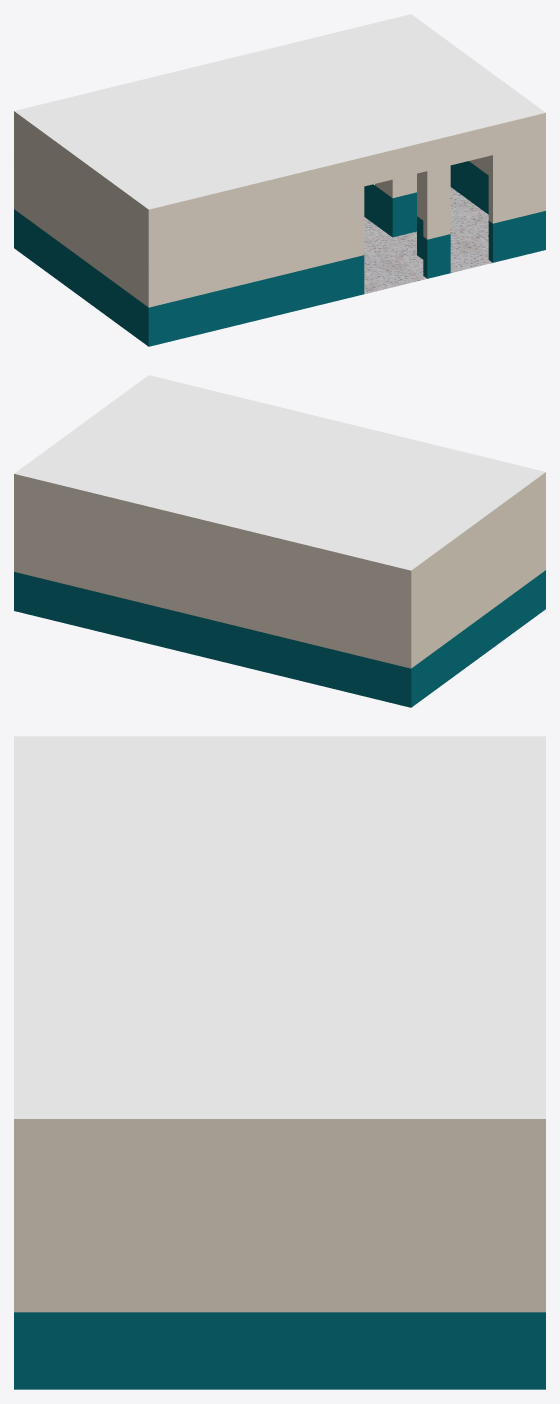
File: ARQ-37.fbx
The picture shows the model from 3 angles, top to bottom: view 1: azimuth 30°, elevation 25°; view 2: azimuth 150°, elevation 25°; view 3: azimuth 270°, elevation 25°; orthographic projection. The views are drawn at different scales.
Visible parts, largest first — view 1: Pared, Techo, Piso; view 2: Pared, Techo; view 3: Techo, Pared.
Boxes of the visible parts, x1,y1,x2,y2 form: Pared: (14, 111, 545, 346); Techo: (14, 14, 545, 209); Piso: (364, 187, 492, 294); Pared: (14, 472, 545, 707); Techo: (14, 375, 545, 570); Techo: (14, 736, 545, 1118); Pared: (14, 1119, 545, 1389).
Bounding box in the file's own units: 848 × 280 × 499.
Materials: 6 (1 with a texture image).
